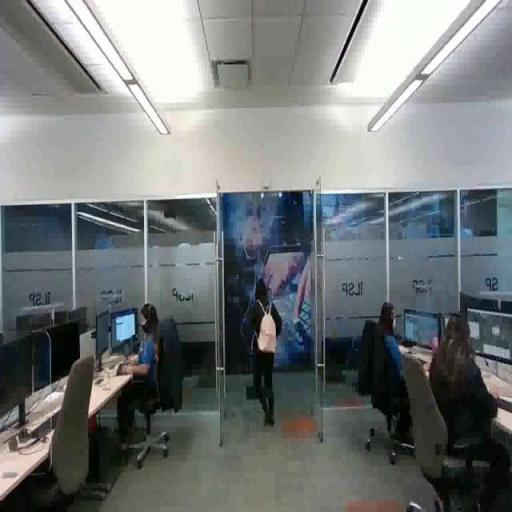person: (357, 298, 442, 472), (414, 308, 492, 497), (105, 301, 186, 447), (247, 276, 285, 432)
